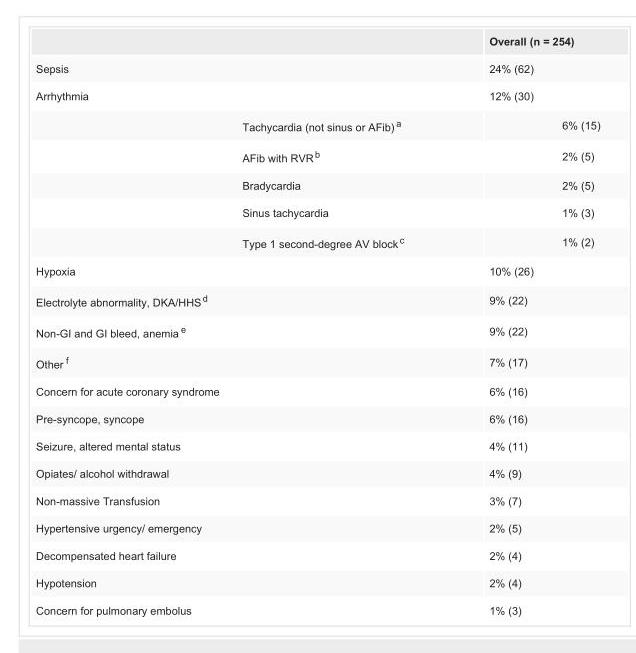table: (35, 34, 599, 616)
table column: (35, 34, 445, 616), (445, 34, 599, 616)
table column header: (35, 34, 599, 54)
table row: (35, 109, 599, 140), (35, 140, 599, 171), (35, 284, 599, 315), (35, 315, 599, 346), (35, 346, 599, 377), (35, 226, 599, 256), (35, 81, 599, 109), (35, 198, 599, 226), (35, 256, 599, 284), (35, 404, 599, 432), (35, 486, 599, 514), (35, 568, 599, 596), (35, 54, 599, 81), (35, 171, 599, 198), (35, 377, 599, 404), (35, 432, 599, 459), (35, 459, 599, 486), (35, 514, 599, 541), (35, 541, 599, 568), (35, 34, 599, 54), (35, 596, 599, 616)
